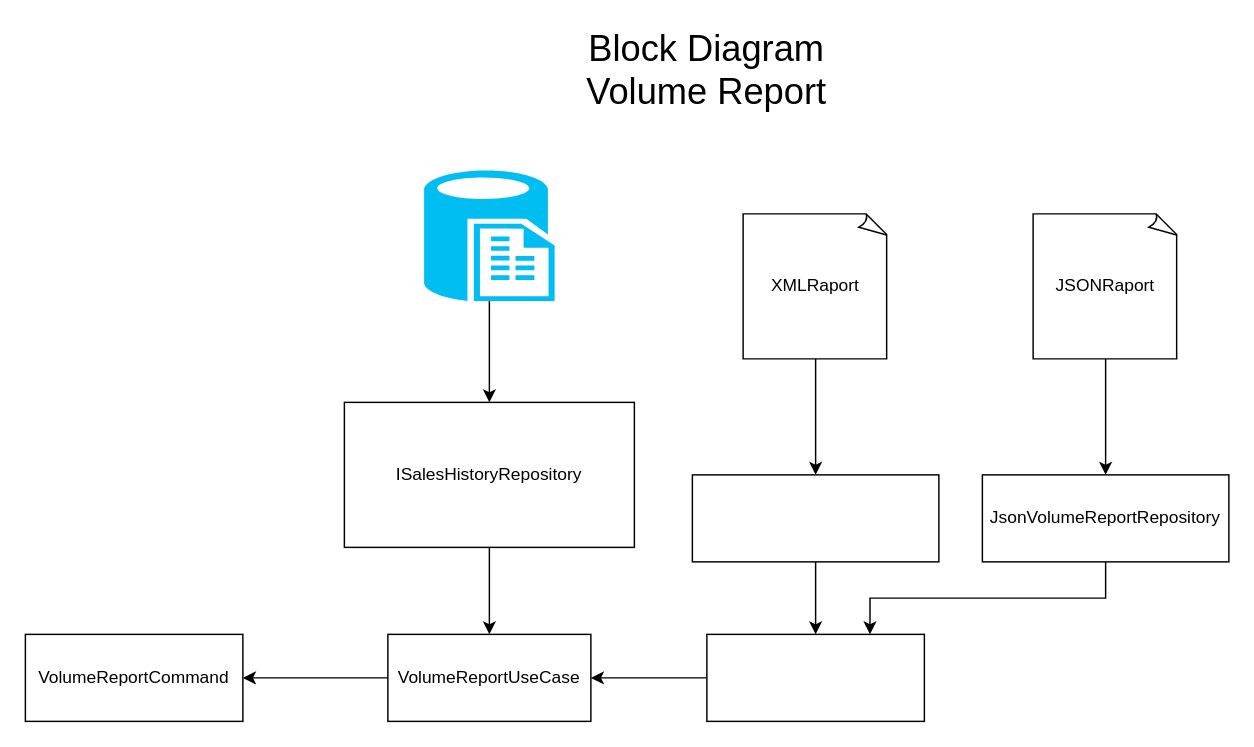
This 1254x747 diagram has some shape labels left out. The shapes that lost their labels are listed below. From the top down, each one's centre as x and y in pixels, then its label:
At point (488, 235): "SQLite".
At point (815, 517): "XmlVolumeReportRepository".
At point (814, 677): "IVolumeReportRepository".
